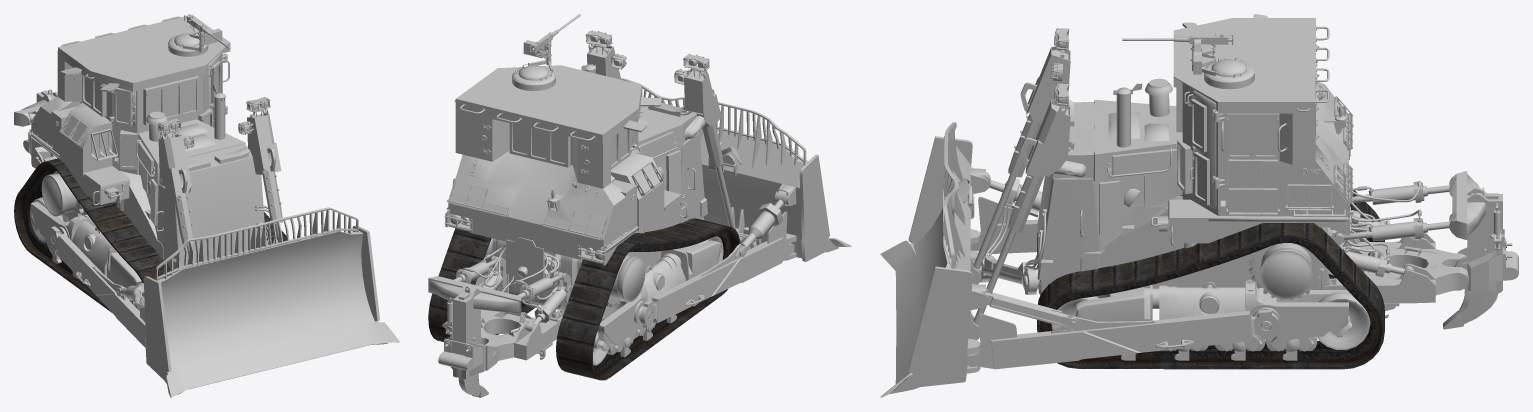
The picture shows the model from 3 angles, left to right: view 1: azimuth 30°, elevation 25°; view 2: azimuth 150°, elevation 25°; view 3: azimuth 270°, elevation 25°; orthographic projection. The views are drawn at different scales.
Visible parts, largest first — view 1: Loft003; view 2: Loft003; view 3: Loft003.
Part boxes in pixels (x1,y1,x2,y2): Loft003: [14, 14, 399, 397]; Loft003: [428, 14, 851, 397]; Loft003: [880, 14, 1518, 397].
Bounding box in the file's own units: 4.97 × 5.17 × 9.38.
